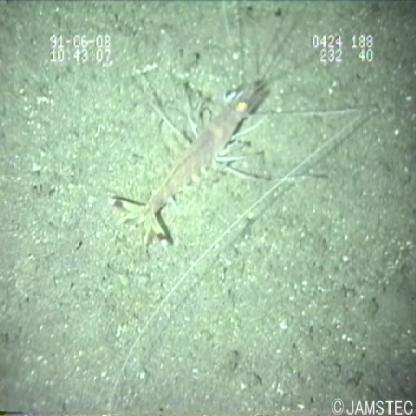Bio: (103, 3, 375, 266)
